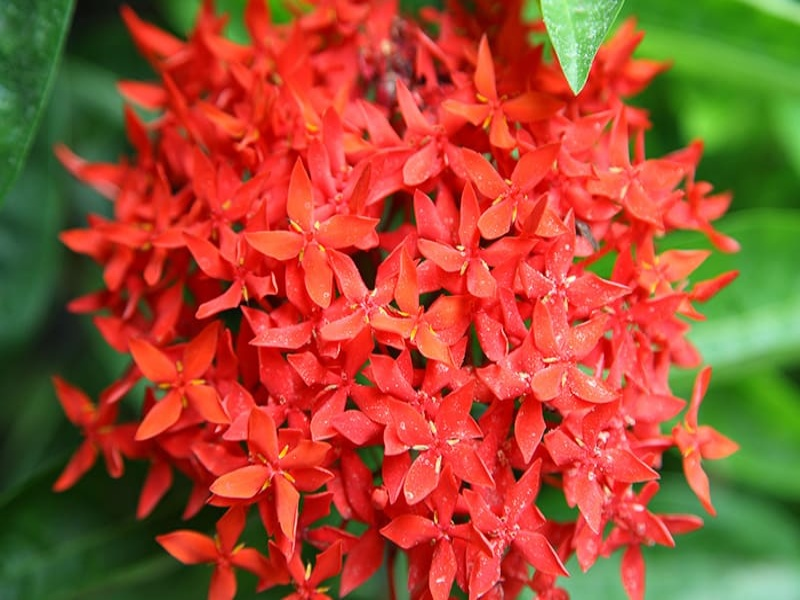Ixora: (46, 1, 756, 600)
